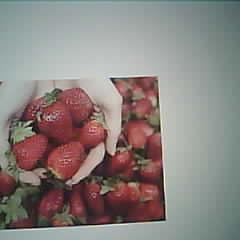straw-ripe: (46, 142, 84, 181), (36, 103, 72, 141), (13, 133, 47, 170)
